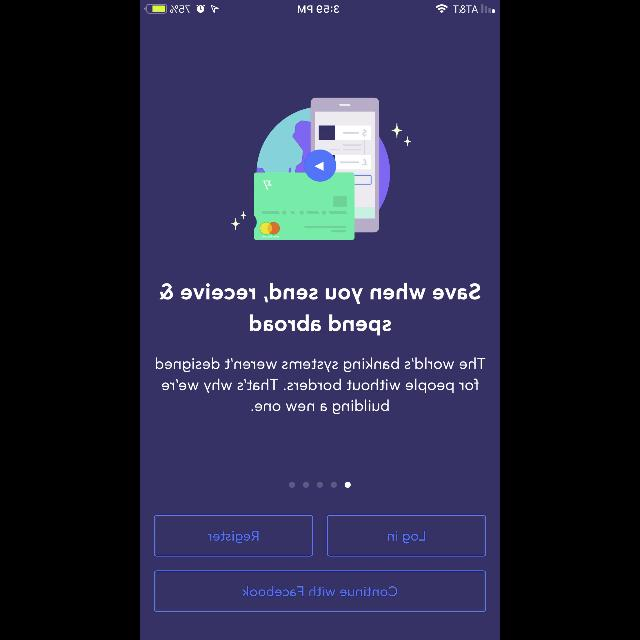image: (230, 96, 412, 242)
pageindicator: (288, 480, 352, 488)
text: (156, 356, 487, 414), (159, 282, 481, 336)
textbutton: (154, 570, 486, 612), (154, 513, 314, 557), (326, 514, 486, 556)
uppertaskbar: (140, 0, 500, 14)
